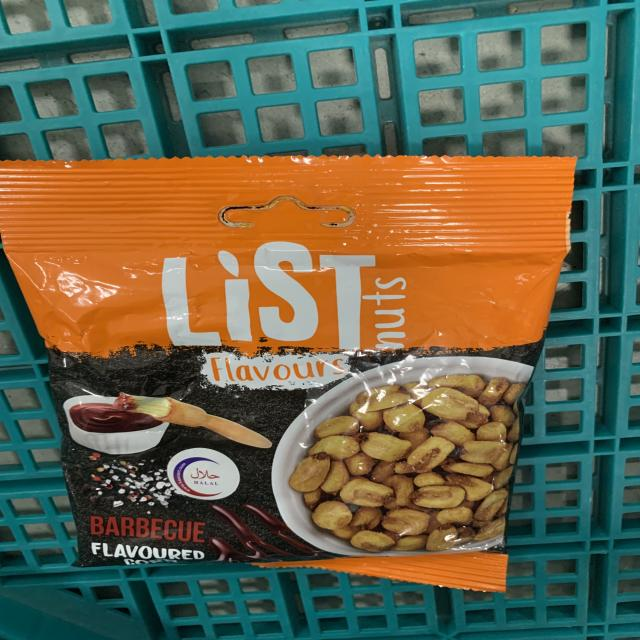object_name: (6, 161, 563, 583)
